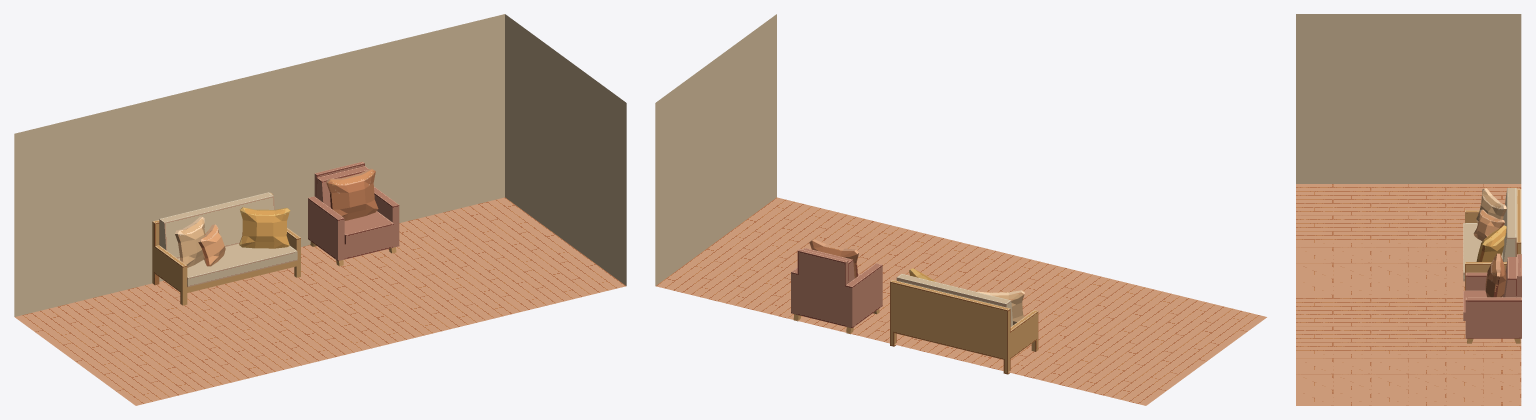
File: peris-room.gltf
The picture shows the model from 3 angles, left to right: view 1: azimuth 30°, elevation 25°; view 2: azimuth 150°, elevation 25°; view 3: azimuth 270°, elevation 25°; orthographic projection. The views are drawn at different scales.
Parts seen in each view (by area): view 1: Room, bench, couch; view 2: Room, bench, couch; view 3: Room, couch, bench.
Boxes of the visible parts, x1=… form: Room: x1=14, y1=14, x2=626, y2=405; bench: x1=152, y1=192, x2=300, y2=305; couch: x1=308, y1=161, x2=399, y2=266; Room: x1=655, y1=14, x2=1266, y2=405; bench: x1=890, y1=268, x2=1038, y2=374; couch: x1=791, y1=239, x2=882, y2=334; Room: x1=1296, y1=14, x2=1521, y2=405; couch: x1=1463, y1=253, x2=1521, y2=343; bench: x1=1463, y1=188, x2=1521, y2=290.
Bounding box in the file's own units: 14 × 5.06 × 6.02.
7 materials, 7 textured.
